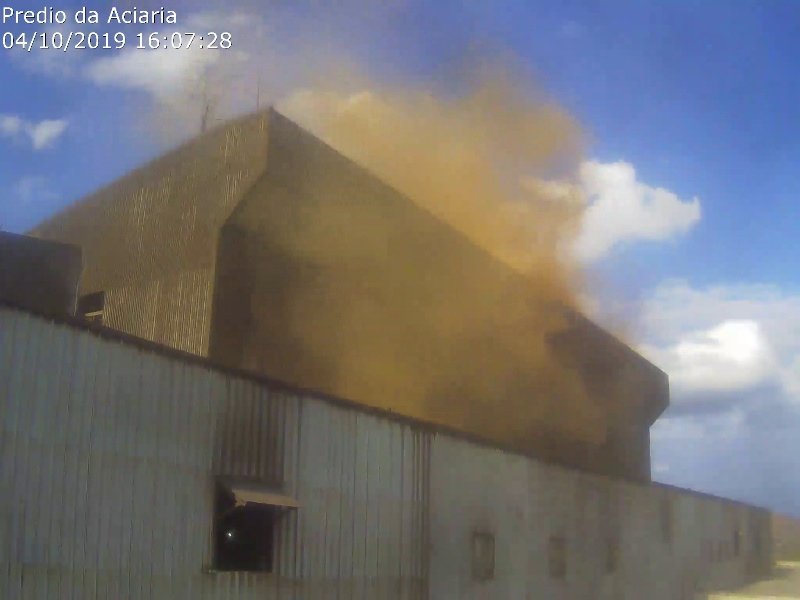bom: (617, 7, 800, 357), (2, 4, 178, 209)
pessimo: (306, 114, 609, 447)
ruim: (188, 11, 591, 112)
